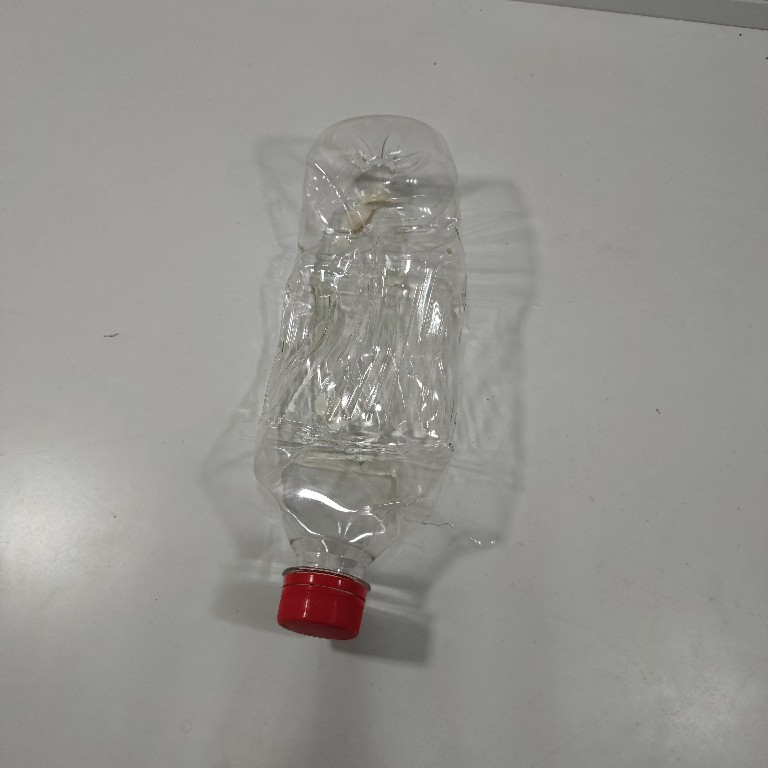bottle: (242, 109, 485, 650)
